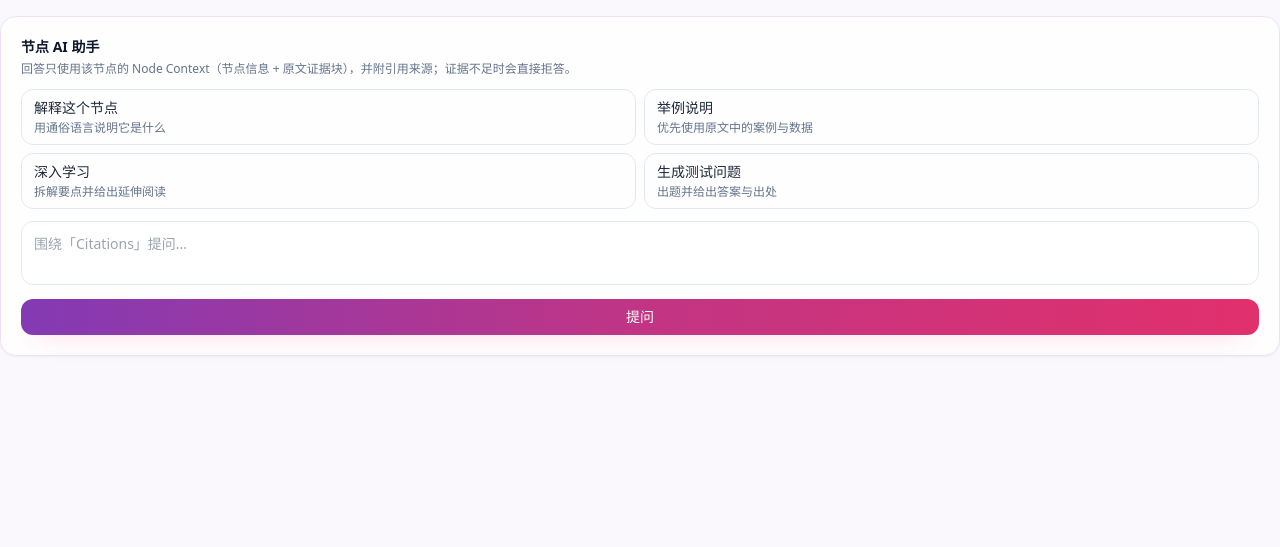
Scenario: KnowledgeNodeQa (Node AI Assistant) › labels an extractive fallback answer honestly
Type "What must every answer cite?" into the text box named "输入问题".
click(640, 253); type("What must every answer cite?")  # box x1=21 y1=221 x2=1259 y2=285
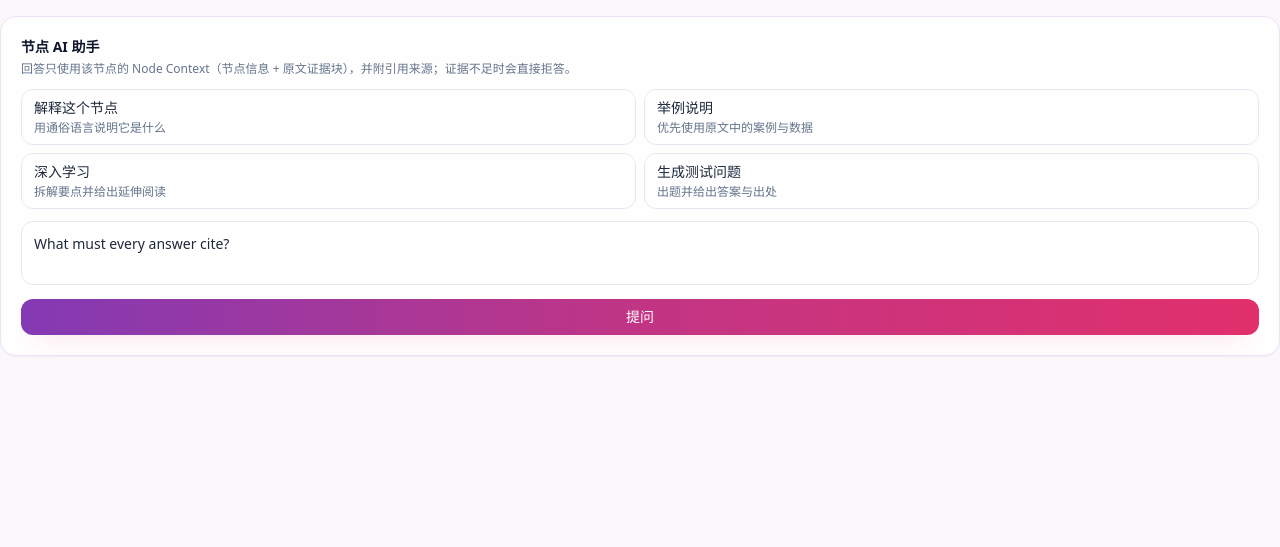
Click the button "提问".
click(640, 317)  # box x1=21 y1=299 x2=1259 y2=335
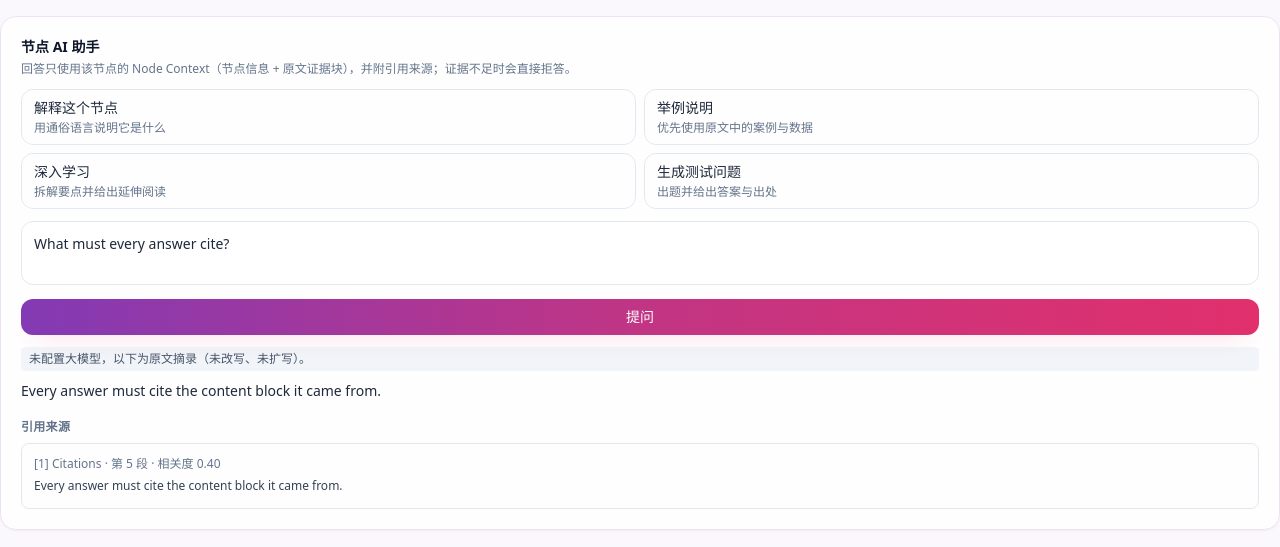
expect the text "未配置大模型，以下为原文摘录（未改写、未扩写）。" is shown: met, box x1=21 y1=347 x2=1259 y2=371
expect the text "[1] Citations · 第 5 段 · 相关度 0.40" is shown: met, box x1=34 y1=455 x2=220 y2=472
